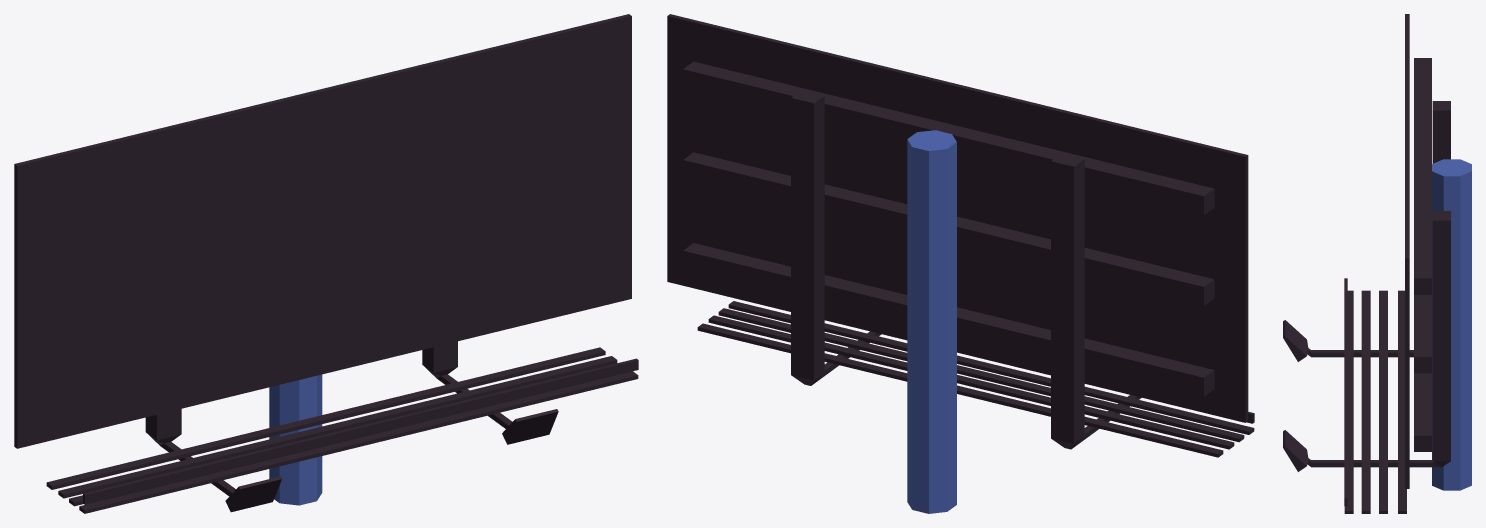
File: Billboard.fbx
3 renders of one model, left to right at view 1: azimuth 30°, elevation 25°; view 2: azimuth 150°, elevation 25°; view 3: azimuth 270°, elevation 25°, orthographic. The views are drawn at different scales.
Parts seen in each view (by area): view 1: Board, Railing, Structure, Pillar; view 2: Board, Structure, Pillar, Railing; view 3: Structure, Pillar, Railing, Board.
Part boxes in pixels (box(x1,y1,x2,y2)): Board: box(14, 14, 631, 448); Railing: box(46, 347, 638, 513); Structure: box(145, 341, 558, 512); Pillar: box(269, 374, 322, 505); Board: box(667, 14, 1248, 422); Structure: box(683, 61, 1214, 449); Pillar: box(907, 130, 956, 513); Railing: box(697, 301, 1254, 457); Structure: box(1283, 58, 1450, 471); Pillar: box(1432, 159, 1471, 490); Railing: box(1344, 278, 1406, 513); Board: box(1405, 14, 1409, 488).
Size of the model in its own units: 667 by 440 by 218.
